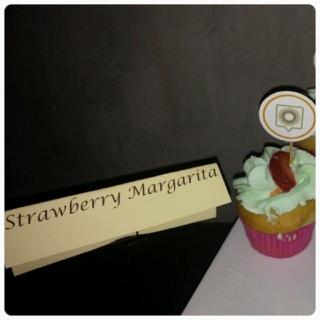Cake: (233, 141, 320, 254)
Muffin: (237, 140, 320, 257)
